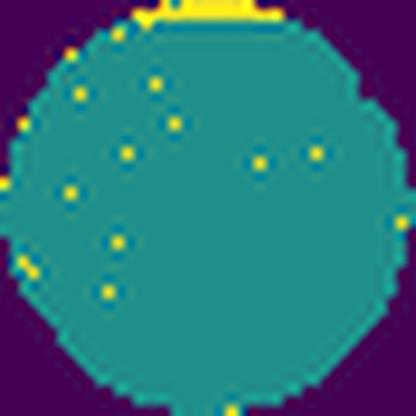Edge-Loc: (130, 0, 283, 34)
